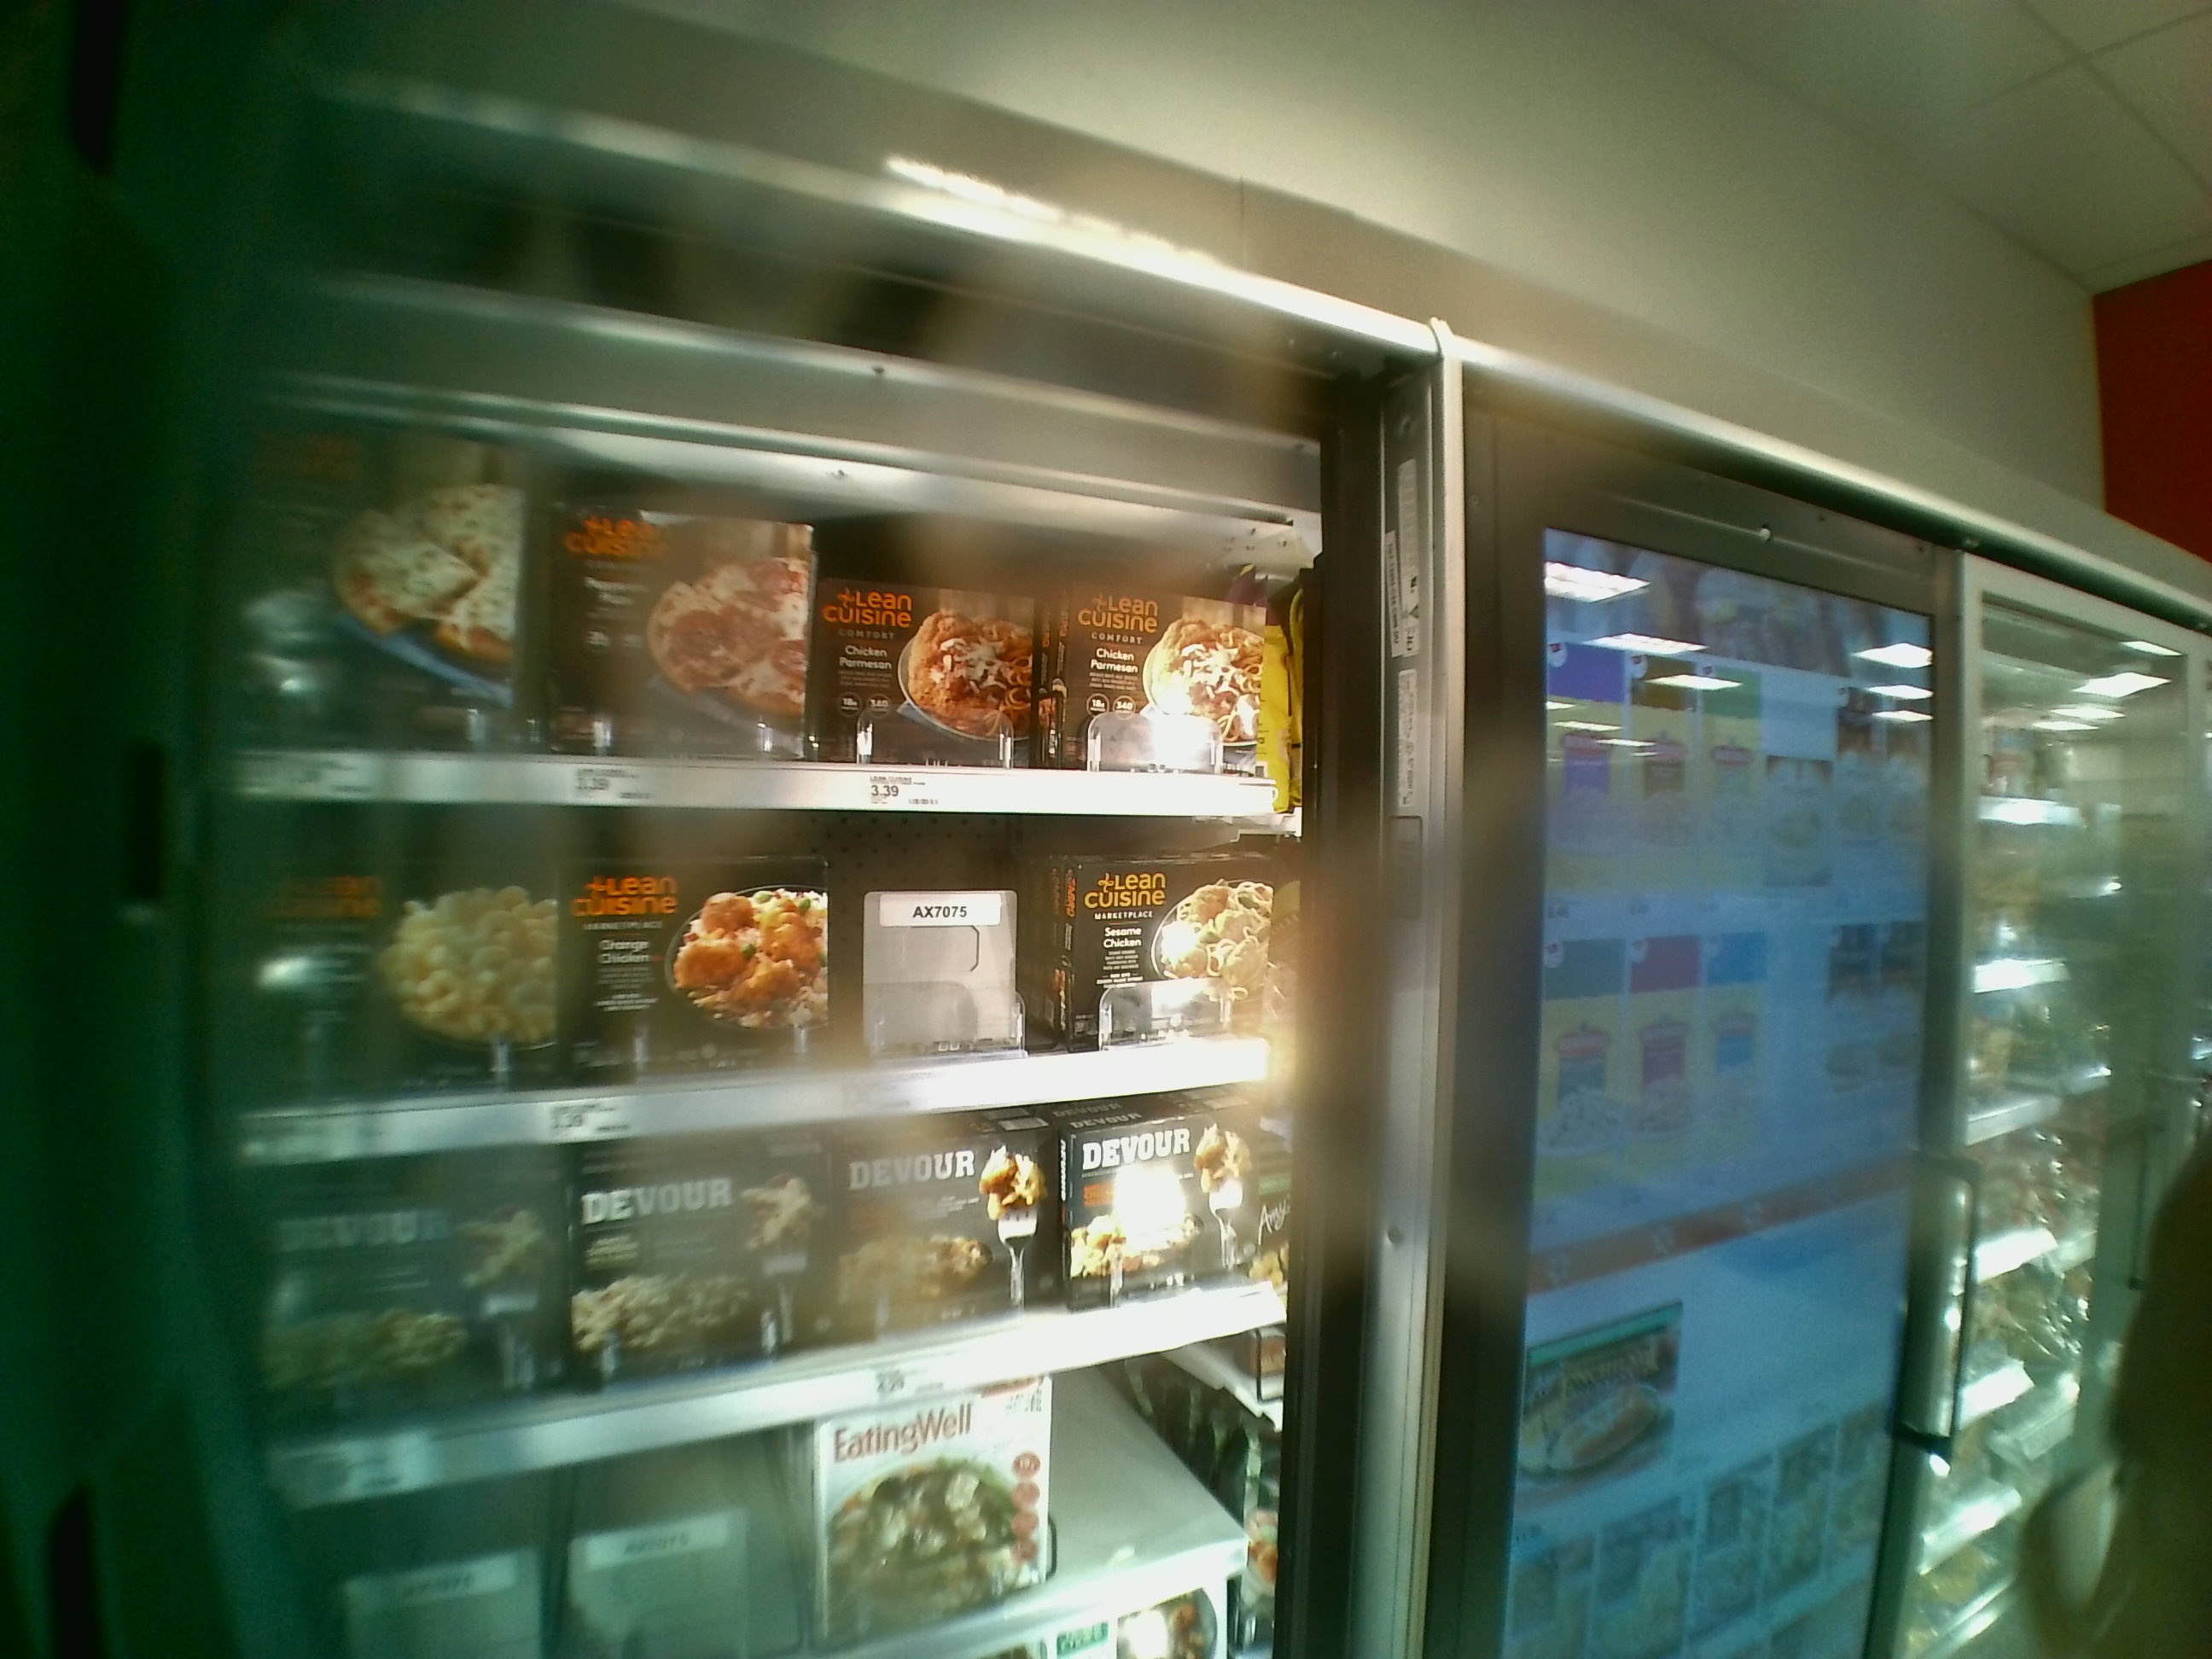shelf: (240, 404, 1310, 823), (228, 803, 1282, 1161)
